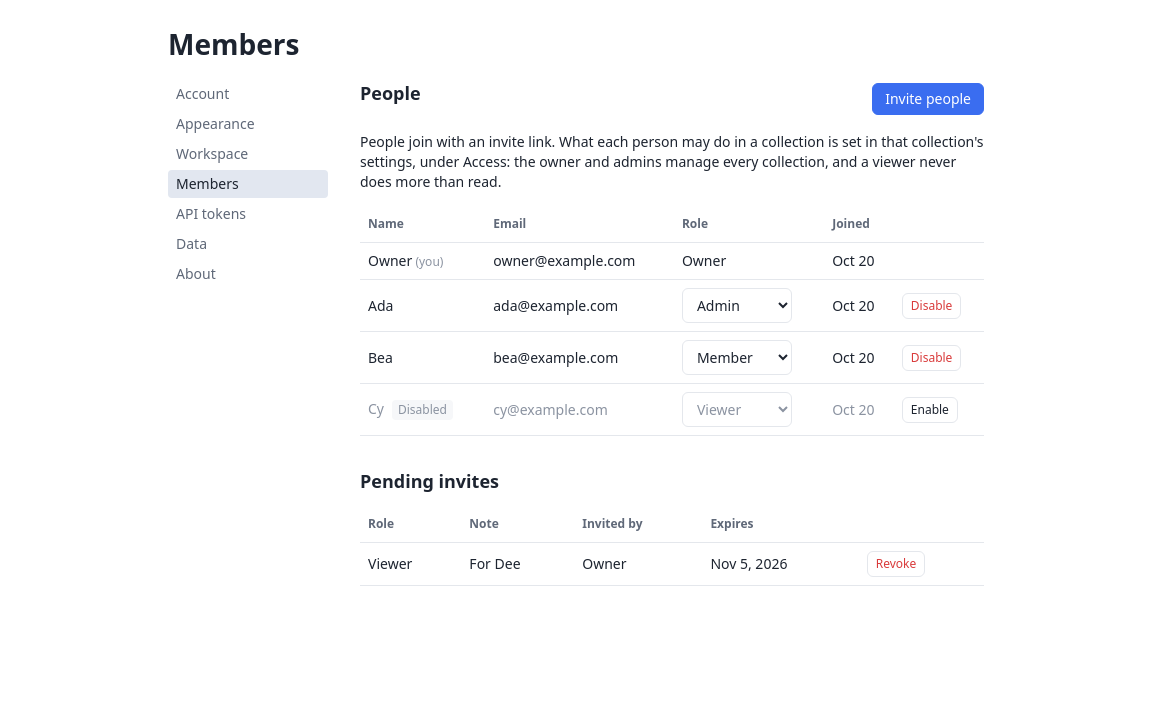
Settings → Members › an invite link is shown once with Copy; closing the dialog drops it everywhere
Step 1. Click the button "Invite people" → (928, 99), box [872,83,984,115]
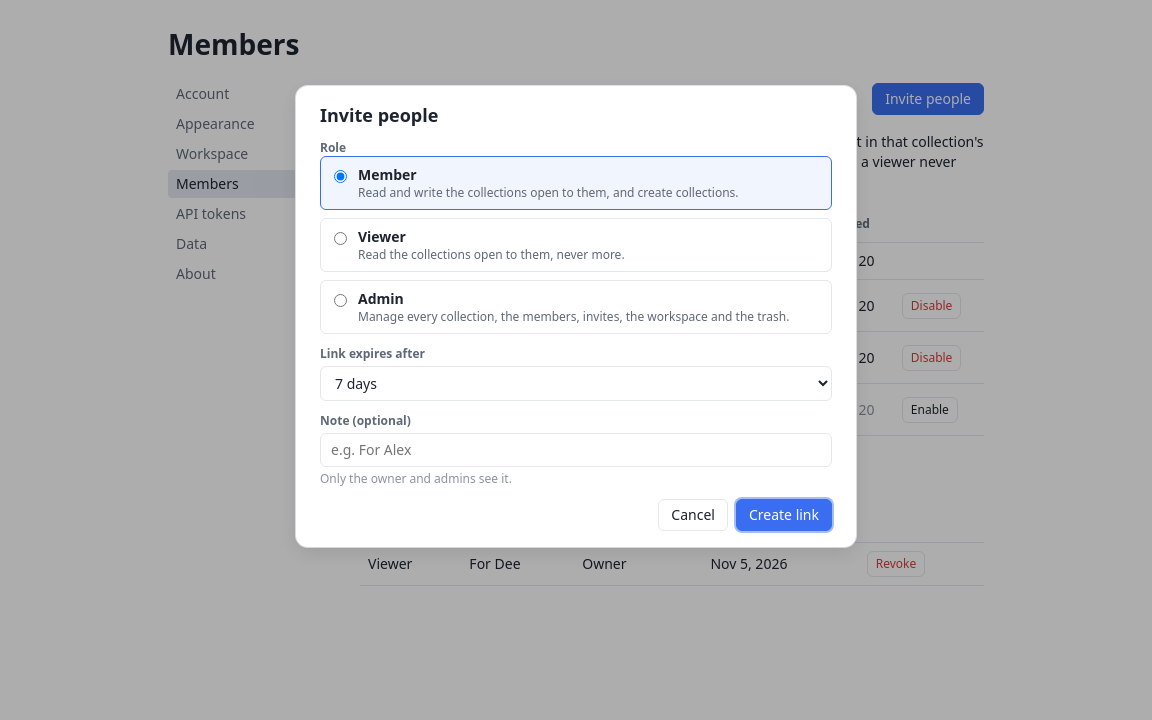
expect the radio button labelled "Member" is checked: met, box [334,170,347,183]
Step 2. Click the radio button labelled "Admin" → (340, 301), box [334,294,347,307]
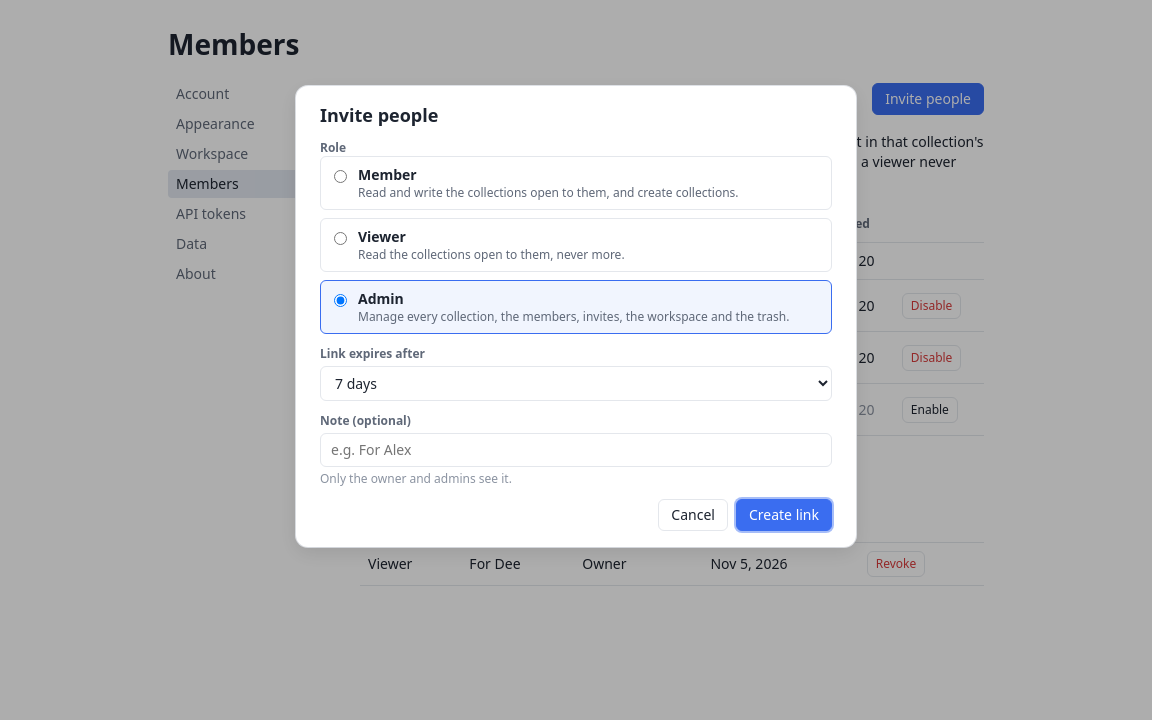
Step 3. Select "30 days" in the dropdown labelled "Link expires after" → (576, 384), box [320,366,832,401]
Step 4. Type " For Eve " into the field labelled "Note (optional) Only the owner and admins see it." → (576, 450), box [320,433,832,467]
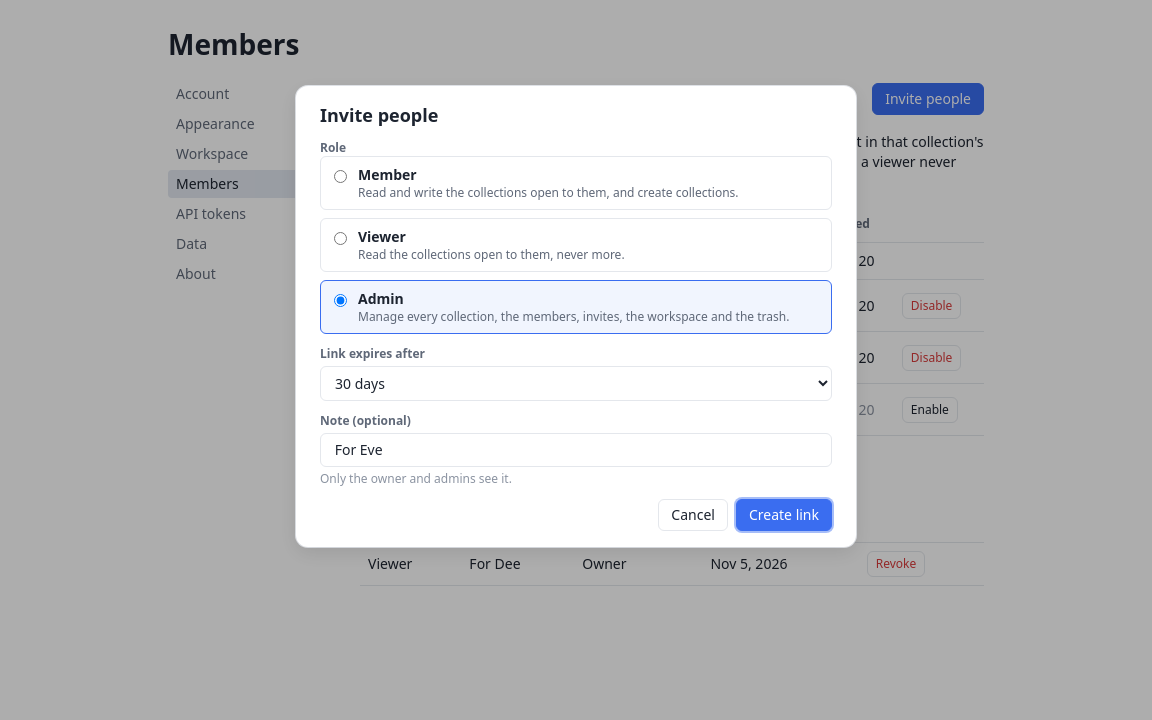
Step 5. Click the button "Create link" → (784, 515), box [736,499,832,531]
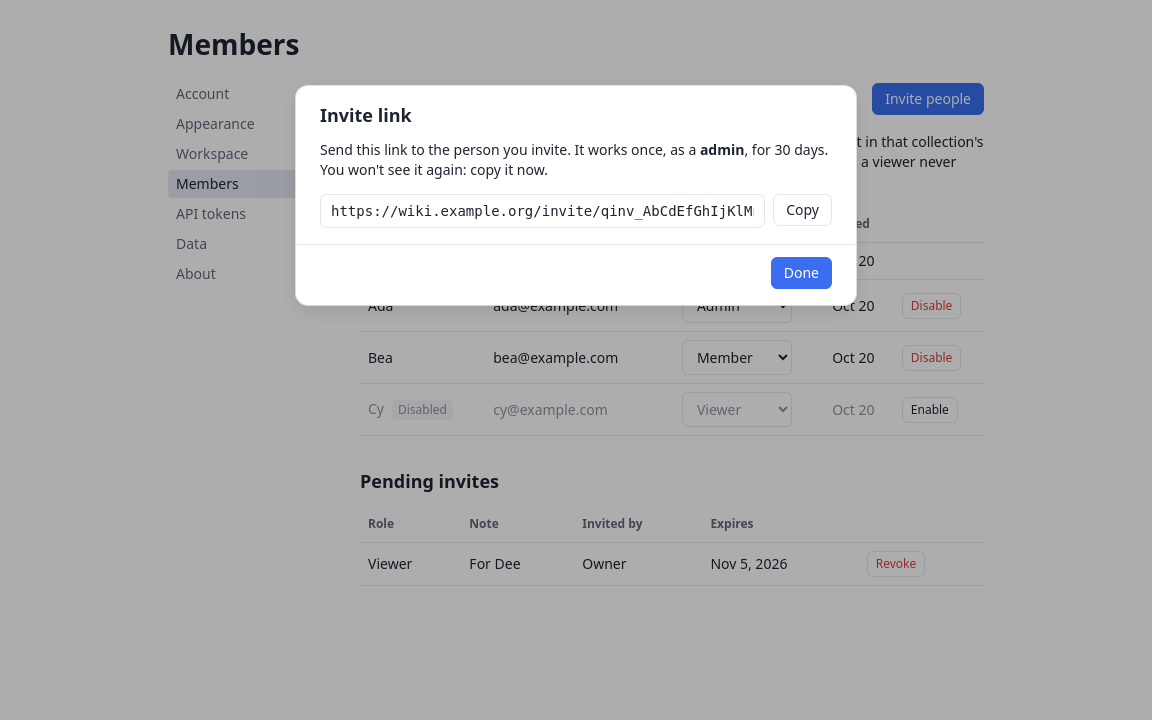
expect the field named "Invite link" holds "https://wiki.example.org/invite/qinv_AbCdEfGhIjKlMnOpQrStUvWxYz0123456789ABCDEF12345": met, box [320,194,765,228]
expect the text "You won't see it again" is shown: met, box [320,140,828,179]
Step 6. Click the button "Copy" → (803, 210), box [773,194,832,226]
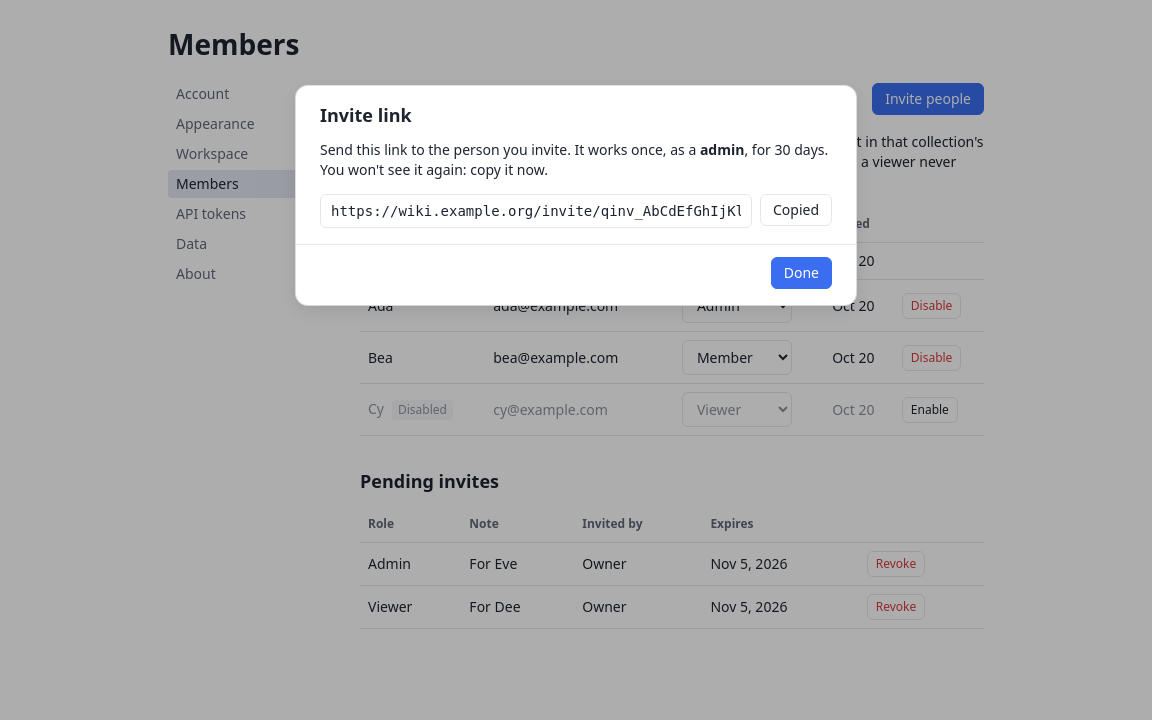
Step 7. Click the button "Done" → (801, 273), box [771,257,832,289]
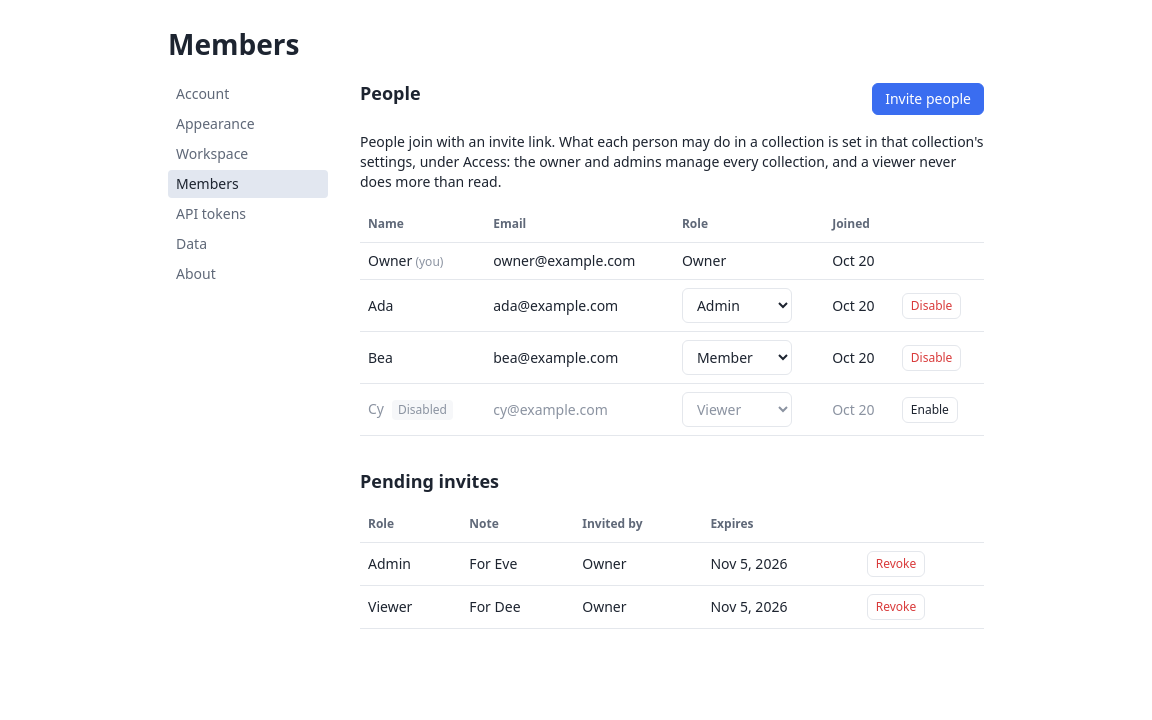
expect the text "qinv_" is not shown: met
expect the cell "For Eve" is shown: met, box [461,542,574,586]
expect the dialog is gone: met
